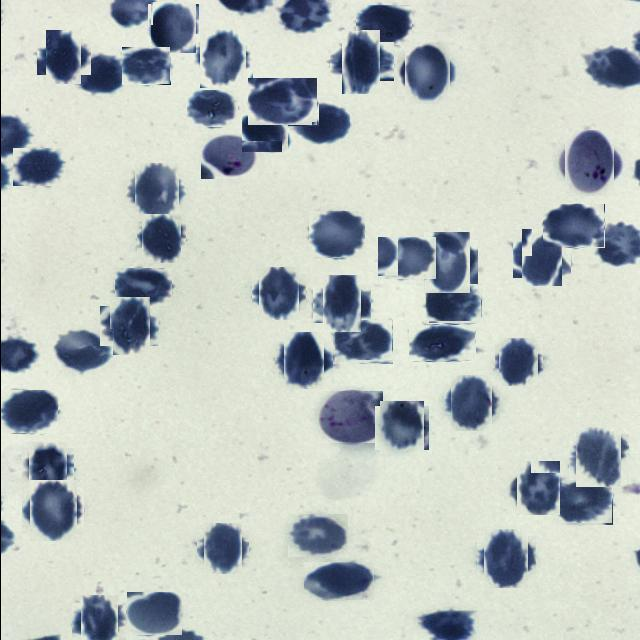red blood cell: (247, 78, 317, 126), (24, 483, 80, 538), (400, 46, 454, 100), (419, 236, 473, 290), (195, 30, 249, 84), (572, 431, 624, 484), (479, 532, 532, 584), (542, 204, 604, 248), (334, 36, 386, 88), (287, 514, 348, 558), (308, 211, 365, 258), (303, 562, 373, 600), (130, 166, 182, 217), (552, 480, 612, 524), (52, 329, 112, 372), (334, 320, 392, 364), (0, 390, 58, 434), (408, 324, 475, 362), (377, 237, 436, 280), (446, 378, 496, 428), (278, 336, 328, 386), (104, 301, 154, 351), (126, 592, 182, 636), (376, 403, 426, 452), (513, 464, 562, 513), (516, 234, 566, 282), (290, 102, 348, 143), (254, 270, 302, 318), (148, 3, 196, 51), (317, 280, 365, 328), (355, 5, 411, 45), (425, 284, 481, 324), (112, 268, 170, 306), (40, 34, 86, 80), (73, 54, 125, 94), (24, 445, 70, 490), (200, 526, 244, 572), (12, 148, 65, 186), (186, 90, 238, 128), (138, 216, 182, 260), (496, 340, 540, 384), (121, 47, 170, 85), (76, 599, 121, 640), (241, 115, 288, 153)
ring: (317, 391, 382, 443), (560, 134, 618, 192), (200, 134, 258, 180)
